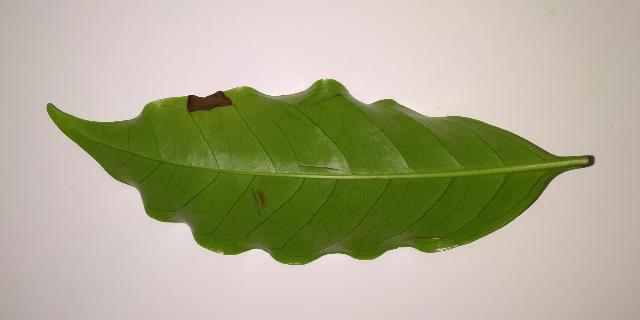rust: (186, 91, 232, 112)
